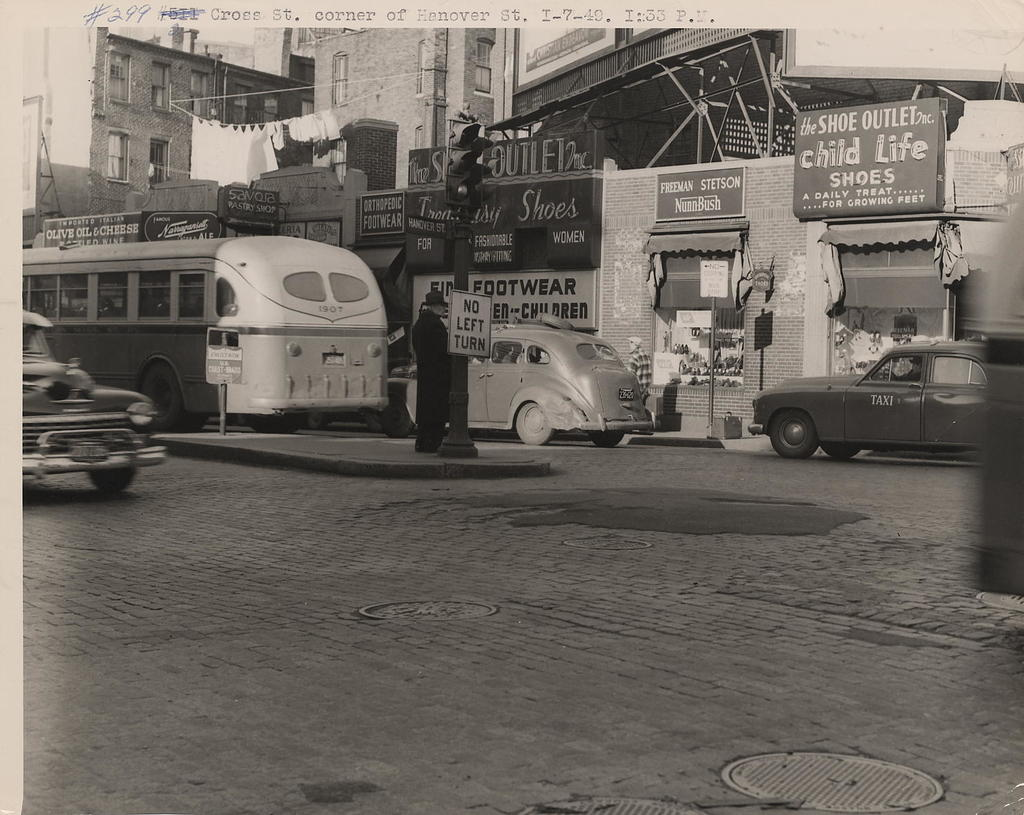Bus: (13, 239, 386, 429)
